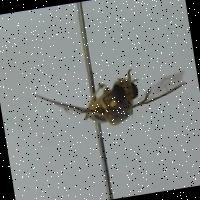Oriental-fruit-fly: (28, 56, 198, 148)
